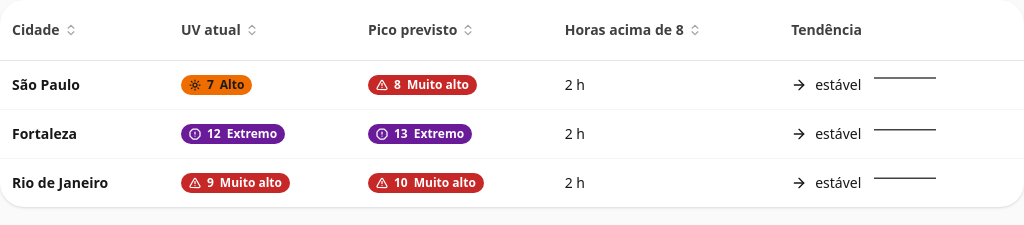
Test: CityCompareTable › ordena pelo pico em ordem decrescente ao clicar duas vezes no cabeçalho
The image size is (1024, 225).
Step 1. Click the button "Pico previsto" → x=422, y=30, box [368, 8, 475, 52]
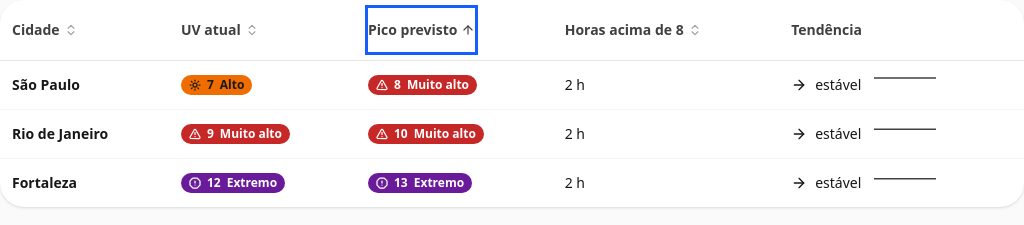
Step 2. Click the button "Pico previsto" → x=422, y=30, box [368, 8, 475, 52]
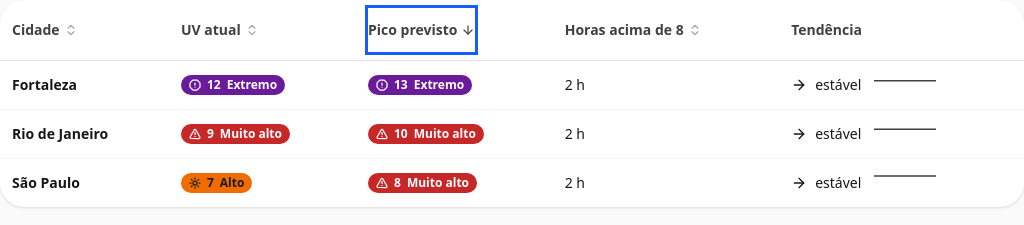
Check: the column heading "Pico previsto" has attribute aria-sort="descending", box [356, 0, 553, 60]
